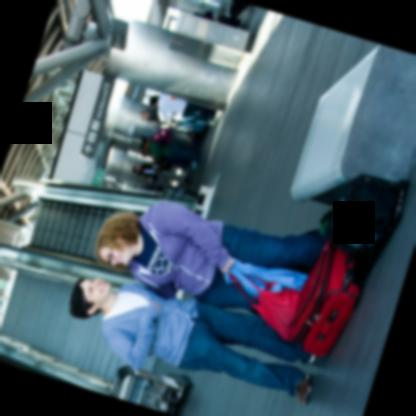backpack: (324, 193, 395, 262), (150, 127, 173, 148)
handbag: (229, 271, 300, 340)
suitcase: (291, 239, 367, 358), (228, 0, 250, 18), (218, 13, 241, 27)
